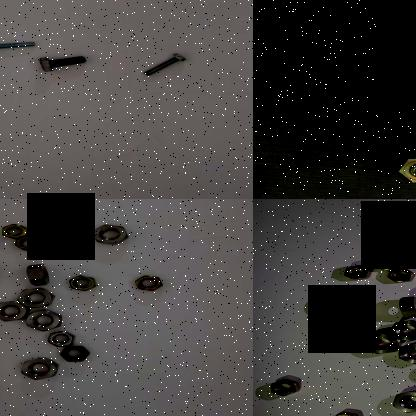Bolts: (28, 52, 90, 76), (138, 50, 188, 78), (391, 158, 416, 188), (0, 36, 40, 54)
NUTS: (322, 291, 368, 317), (358, 330, 402, 356), (87, 223, 131, 247), (22, 310, 66, 332), (18, 356, 58, 380), (14, 285, 53, 309), (24, 260, 52, 288), (0, 298, 30, 322), (266, 378, 302, 397), (130, 272, 164, 292), (56, 344, 90, 363), (64, 274, 98, 292), (392, 389, 416, 414), (43, 330, 76, 348), (393, 341, 416, 365), (391, 319, 416, 341), (395, 293, 416, 319), (10, 234, 40, 252), (372, 253, 402, 271), (0, 221, 28, 240), (342, 264, 372, 280), (386, 268, 416, 282), (329, 409, 363, 416)
